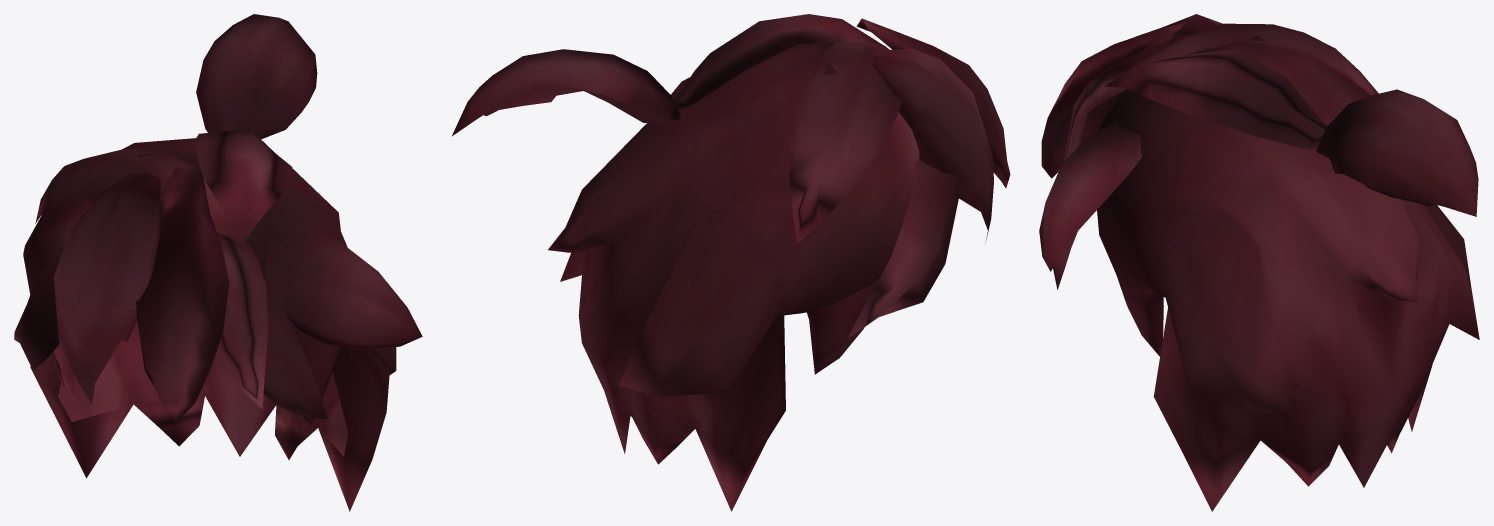
Rendered from Head3.fbx.
3 views of the same model, side by side, from view 1: azimuth 30°, elevation 25°; view 2: azimuth 150°, elevation 25°; view 3: azimuth 270°, elevation 25° (orthographic).
Visible parts, largest first — view 1: Hair05; view 2: Hair05; view 3: Hair05.
Part boxes in pixels (bbox=[...]): Hair05: bbox=[14, 14, 422, 511]; Hair05: bbox=[451, 14, 1010, 511]; Hair05: bbox=[1039, 14, 1479, 511].
Size of the model in its own units: 2 by 2.07 by 2.01.
